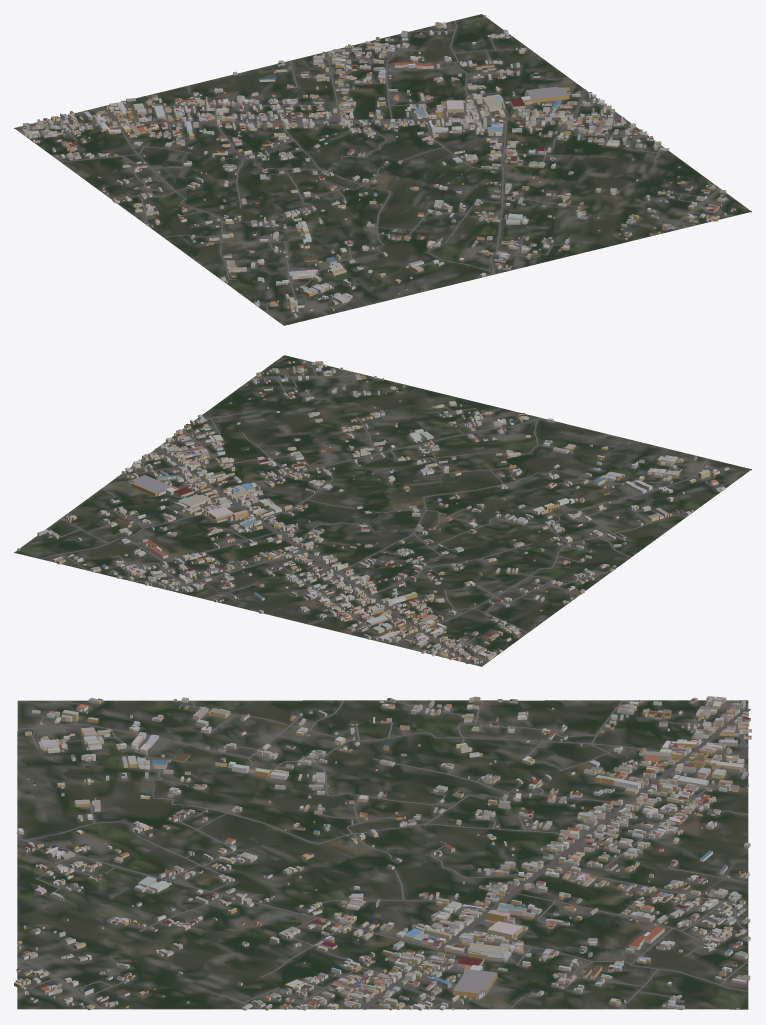
3 renders of one model, top to bottom at view 1: azimuth 30°, elevation 25°; view 2: azimuth 150°, elevation 25°; view 3: azimuth 270°, elevation 25°, orthographic. The views are drawn at different scales.
Parts seen in each view (by area): view 1: ground, buildings, roads; view 2: ground, buildings, roads; view 3: ground, buildings, roads.
Boxes of the visible parts, x1,y1,x2,y2 form: ground: (14, 14, 751, 325); buildings: (22, 15, 735, 317); roads: (29, 20, 720, 315); ground: (14, 355, 751, 666); buildings: (17, 360, 729, 663); roads: (41, 365, 732, 663); ground: (17, 700, 748, 1009); buildings: (14, 696, 751, 1010); roads: (17, 700, 750, 1009).
Size of the model in its own units: 1410 by 19.68 by 1414.
